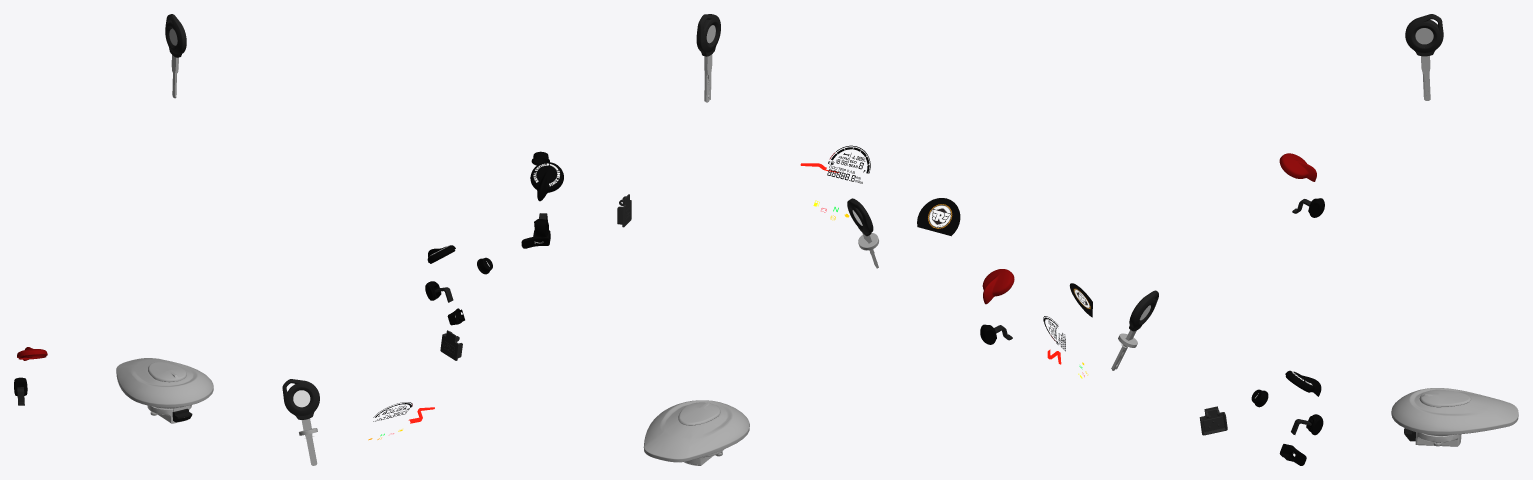
The model's file is anim_top.glb.
3 views of the same model, side by side, from view 1: azimuth 30°, elevation 25°; view 2: azimuth 150°, elevation 25°; view 3: azimuth 270°, elevation 25° (orthographic). The views are drawn at different scales.
Parts seen in each view (by area): view 1: J1C_fuel_tank_cap_main, J1C_handle_key.001, J1C_fuel_tank_cap_key, J1C_fuel_tank_cap_flap, J1C_fuel_tank_cap_main_mech; view 2: J1C_fuel_tank_cap_main, J1C_tripper_digital_base_001, J1C_fuel_tank_cap_key, J1C_fuel_tank_cap_flap, J1C_handle_left_high_beam, J1C_handle_right_switch_stop, J1C_speedo_digital_off.001, J1C_handle_key.001; view 3: J1C_fuel_tank_cap_main, J1C_fuel_tank_cap_key, J1C_handle_key.001, J1C_fuel_tank_cap_flap, J1C_handle_right_switch_stop, J1C_fuel_tank_cap_main_mech, J1C_handle_usb.
Part boxes in pixels (x1,y1,x2,y2): J1C_fuel_tank_cap_main: [116, 358, 213, 407]; J1C_handle_key.001: [282, 379, 319, 465]; J1C_fuel_tank_cap_key: [165, 14, 186, 98]; J1C_fuel_tank_cap_flap: [148, 362, 186, 382]; J1C_fuel_tank_cap_main_mech: [147, 405, 192, 423]; J1C_fuel_tank_cap_main: [643, 400, 749, 462]; J1C_tripper_digital_base_001: [917, 198, 960, 235]; J1C_fuel_tank_cap_key: [696, 14, 720, 102]; J1C_fuel_tank_cap_flap: [678, 402, 720, 425]; J1C_handle_left_high_beam: [530, 162, 562, 201]; J1C_handle_right_switch_stop: [982, 269, 1014, 304]; J1C_speedo_digital_off.001: [827, 145, 870, 183]; J1C_handle_key.001: [847, 198, 878, 268]; J1C_fuel_tank_cap_main: [1391, 388, 1518, 434]; J1C_fuel_tank_cap_key: [1405, 14, 1443, 100]; J1C_handle_key.001: [1111, 290, 1158, 370]; J1C_fuel_tank_cap_flap: [1419, 389, 1471, 407]; J1C_handle_right_switch_stop: [1279, 153, 1316, 181]; J1C_fuel_tank_cap_main_mech: [1404, 428, 1461, 446]; J1C_handle_usb: [1199, 406, 1227, 435].
Bounding box in the file's own units: 0.4737 × 0.3996 × 0.4019.
35 materials, 8 textured.
